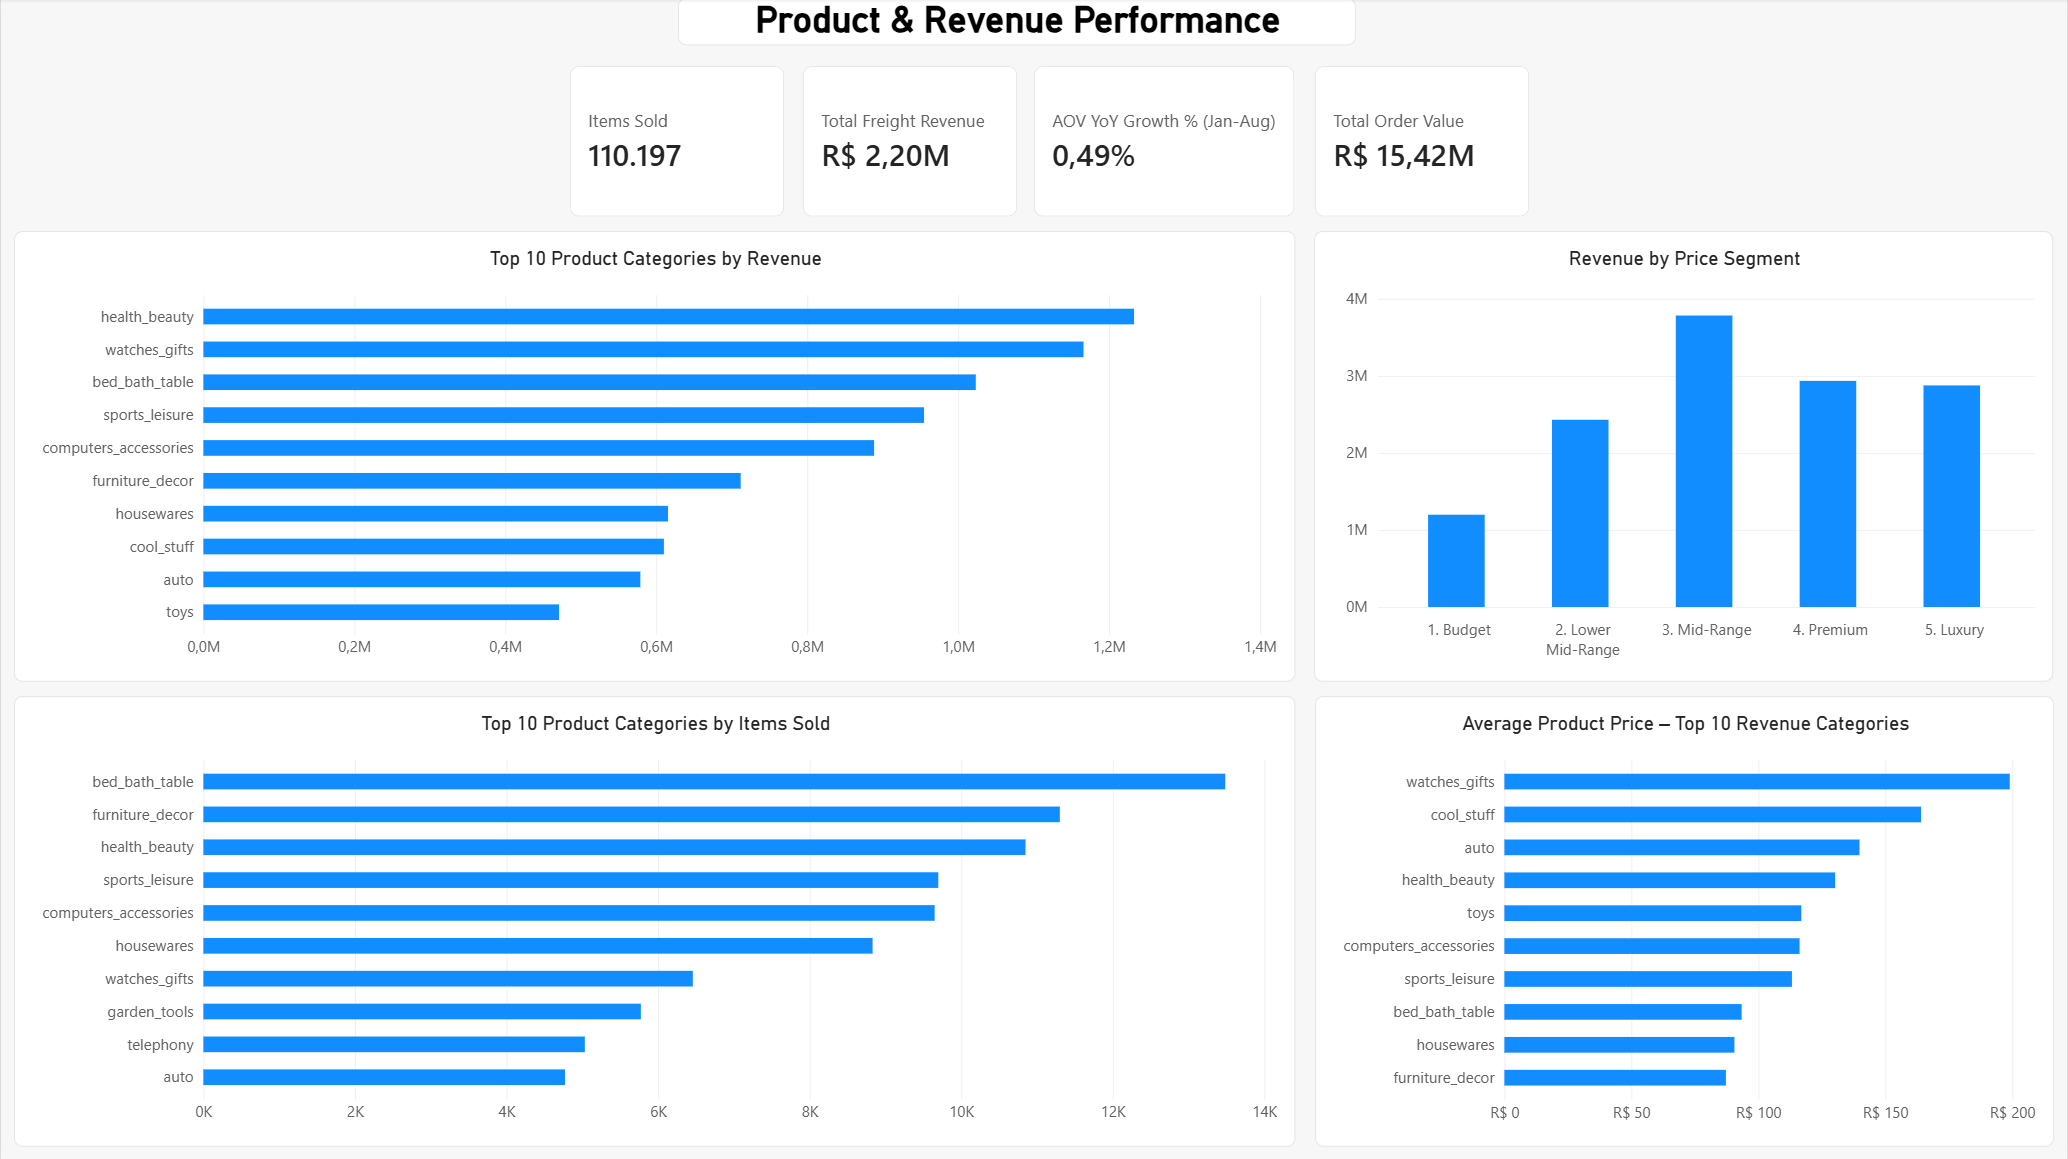

This screenshot's page, from the dashboard's own definition file:
{"tool":"powerbi","page":{"name":"Product & Revenue Performance","canvas":[1920,1080],"ordinal":1},"visuals":[{"type":"cardVisual","fields":{"Data":["FactOrders.Items Sold"]},"box":[529.1,62.8,199.3,140.4],"z":0},{"type":"cardVisual","fields":{"Data":["FactOrders.Total Freight Revenue"]},"box":[745,62.8,199.3,140.4],"z":1000},{"type":"textbox","title":"Product & Revenue Performance","box":[629.2,0,630.2,44.2],"z":2000},{"type":"cardVisual","fields":{"Data":["FactOrders.Total Order Value"]},"box":[1221.1,62.8,199.3,140.4],"z":3000},{"type":"cardVisual","fields":{"Data":["FactOrders.AOV YoY Growth % (Jan-Aug)"]},"box":[960,62.8,242.5,140.4],"z":4000},{"type":"clusteredBarChart","title":"Top 10 Product Categories by Revenue","fields":{"Category":["FactOrderItems.product_category"],"Y":["Sum(FactOrderItems.product_revenue)"]},"box":[12.2,216.2,1191.1,418.5],"z":5000},{"type":"clusteredColumnChart","title":"Revenue by Price Segment","fields":{"Category":["FactOrderItems.price_segment"],"Y":["Sum(FactOrderItems.product_revenue)"]},"box":[1220.7,216.2,687.1,418.5],"z":6000},{"type":"clusteredBarChart","title":"Top 10 Product Categories by Items Sold","fields":{"Category":["FactOrderItems.product_category"],"Y":["Sum(FactOrderItems.order_item_id)"]},"box":[12.2,648.7,1191.1,418.5],"z":7000},{"type":"clusteredBarChart","title":"Average Product Price – Top 10 Revenue Categories","fields":{"Category":["FactOrderItems.product_category"],"Y":["FactOrderItems.Average Product Price"]},"box":[1221,649,687,419],"z":8000}]}

Visuals, with their boxes in screenshot pixels (x1, y1, x2, y2), scaled from the page's 1920x1080 canvas onto the 2068x1159 screenshot:
cardVisual - FactOrders.Items Sold: (left=570, top=67, right=785, bottom=218)
cardVisual - FactOrders.Total Freight Revenue: (left=802, top=67, right=1017, bottom=218)
"Product & Revenue Performance" textbox: (left=678, top=0, right=1356, bottom=47)
cardVisual - FactOrders.Total Order Value: (left=1315, top=67, right=1530, bottom=218)
cardVisual - FactOrders.AOV YoY Growth % (Jan-Aug): (left=1034, top=67, right=1295, bottom=218)
"Top 10 Product Categories by Revenue" clusteredBarChart: (left=13, top=232, right=1296, bottom=681)
"Revenue by Price Segment" clusteredColumnChart: (left=1315, top=232, right=2055, bottom=681)
"Top 10 Product Categories by Items Sold" clusteredBarChart: (left=13, top=696, right=1296, bottom=1145)
"Average Product Price – Top 10 Revenue Categories" clusteredBarChart: (left=1315, top=696, right=2055, bottom=1146)
